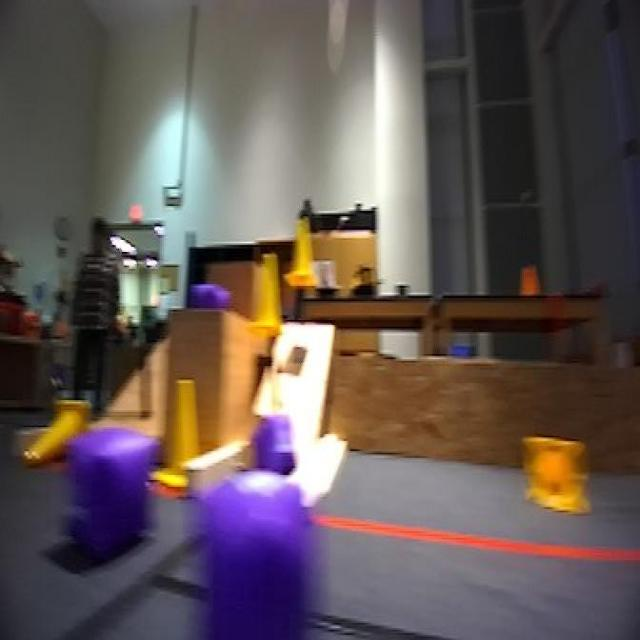frc_cone: (28, 395, 92, 470), (530, 430, 581, 520), (163, 373, 199, 470), (597, 437, 640, 516), (285, 218, 319, 291), (250, 252, 279, 330)
frc_cube: (224, 487, 342, 640), (68, 442, 150, 567), (241, 410, 299, 506), (192, 274, 232, 315)
